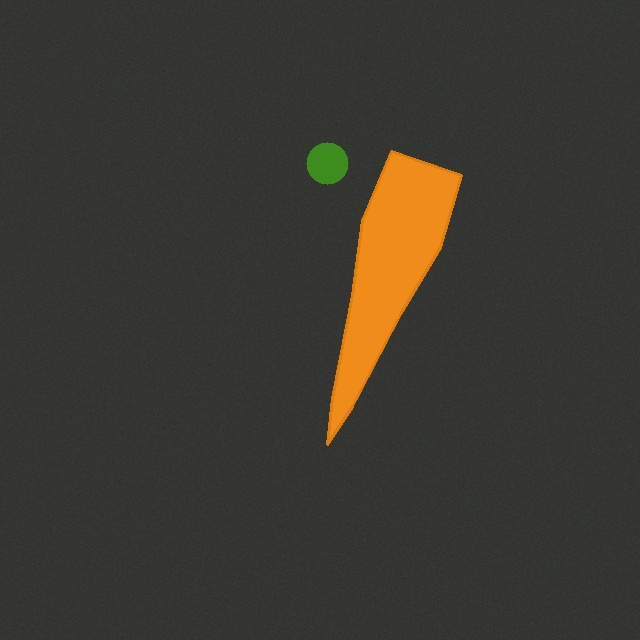Good_Carrot: (319, 143, 469, 452)
